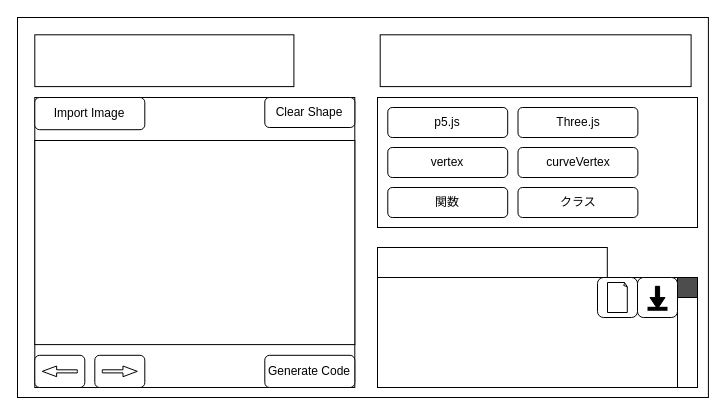
Some shapes in this 726 by 415 pixel diagram are drawn without their labels. The box of each missing label's shape, as (x1, y1, x2, y2) in pixels:
0_ページタイトル: (34, 34, 294, 87)
4_ハイパーリンク: (379, 34, 691, 87)
Canvas: (34, 140, 355, 345)
Function / Class Name: (376, 246, 607, 278)
function banana(x, y, w, h) { let v = { {0, 0}, {0, 0}, {0, 0}, } }: (376, 276, 698, 388)
